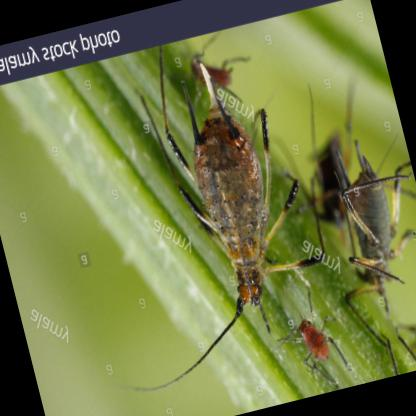uroleucon compositae: (178, 60, 276, 309)
